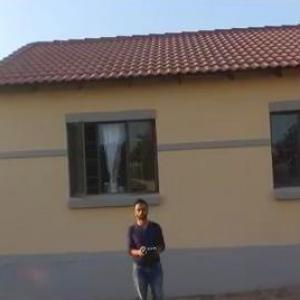follow: (124, 189, 177, 299)
